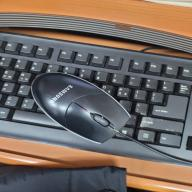mouse: (31, 71, 134, 144)
